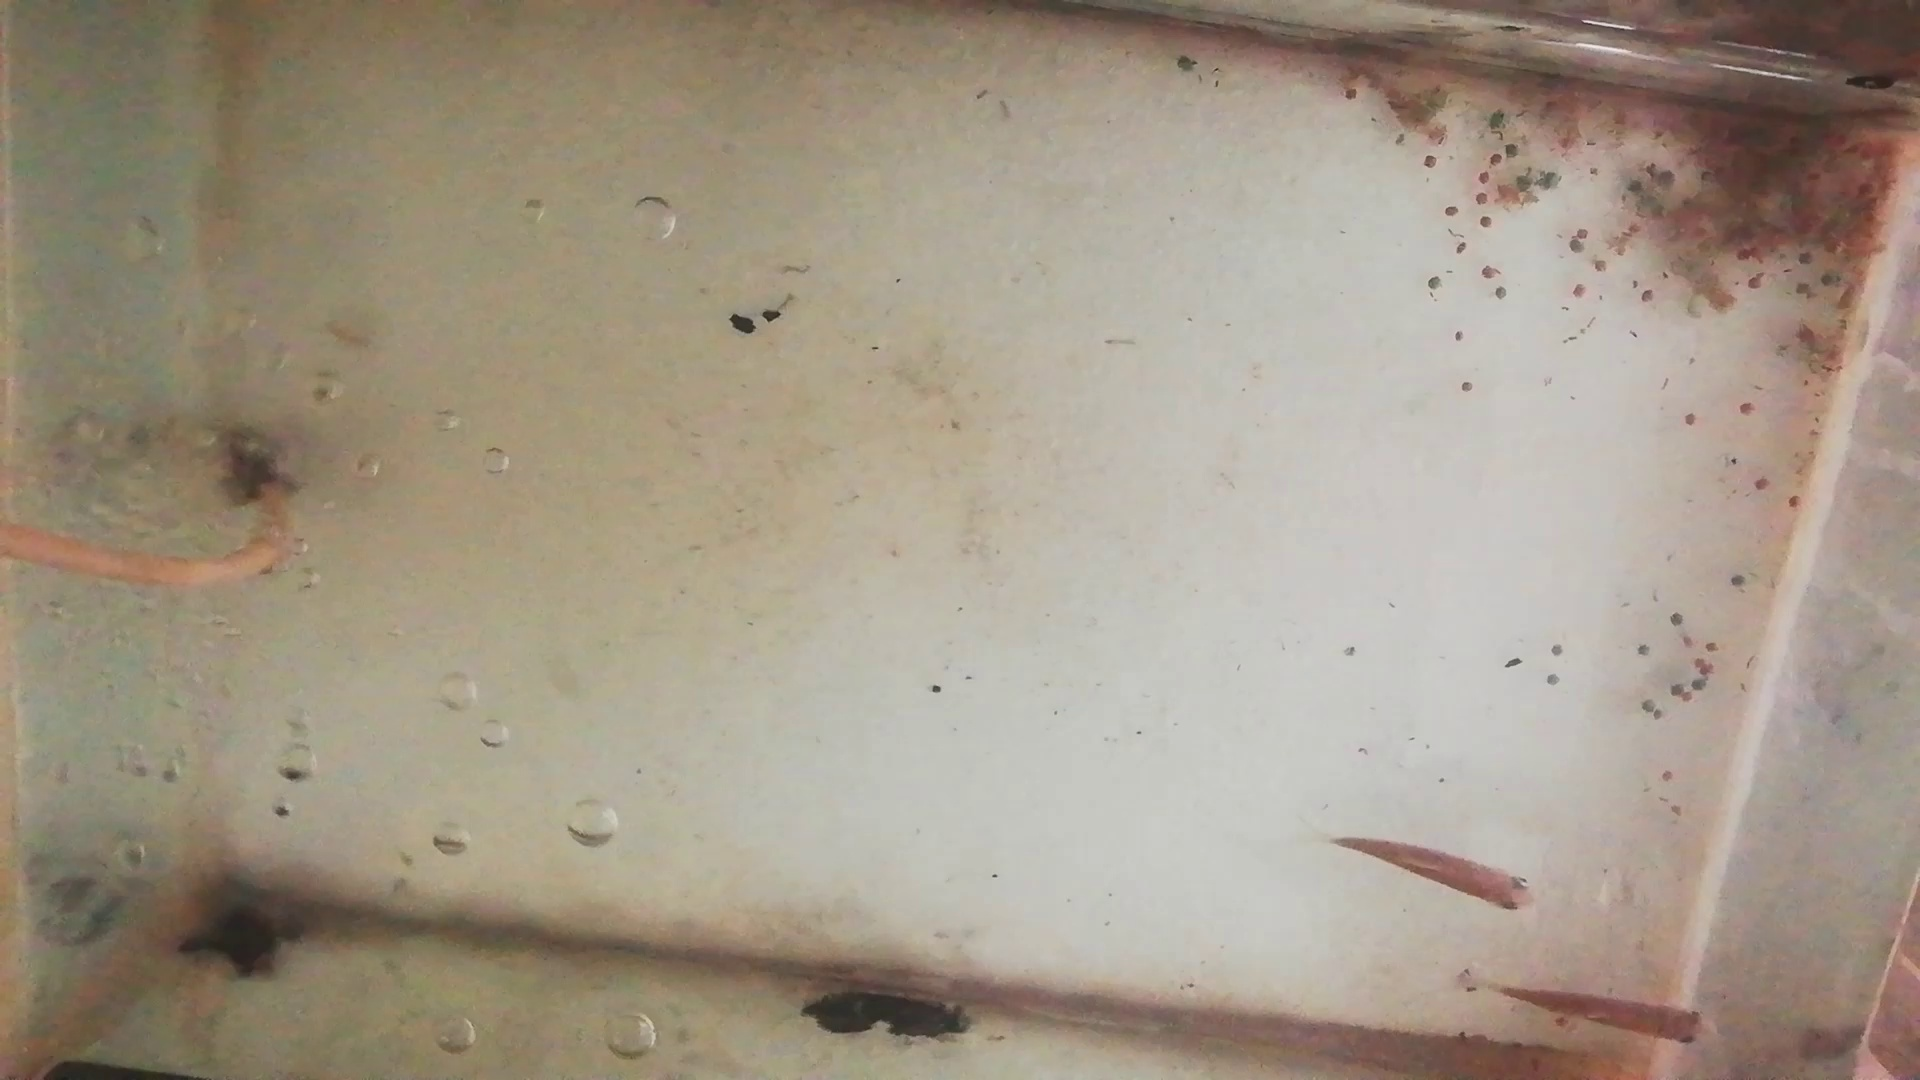fish: (1333, 837, 1540, 914), (1503, 984, 1717, 1048)
